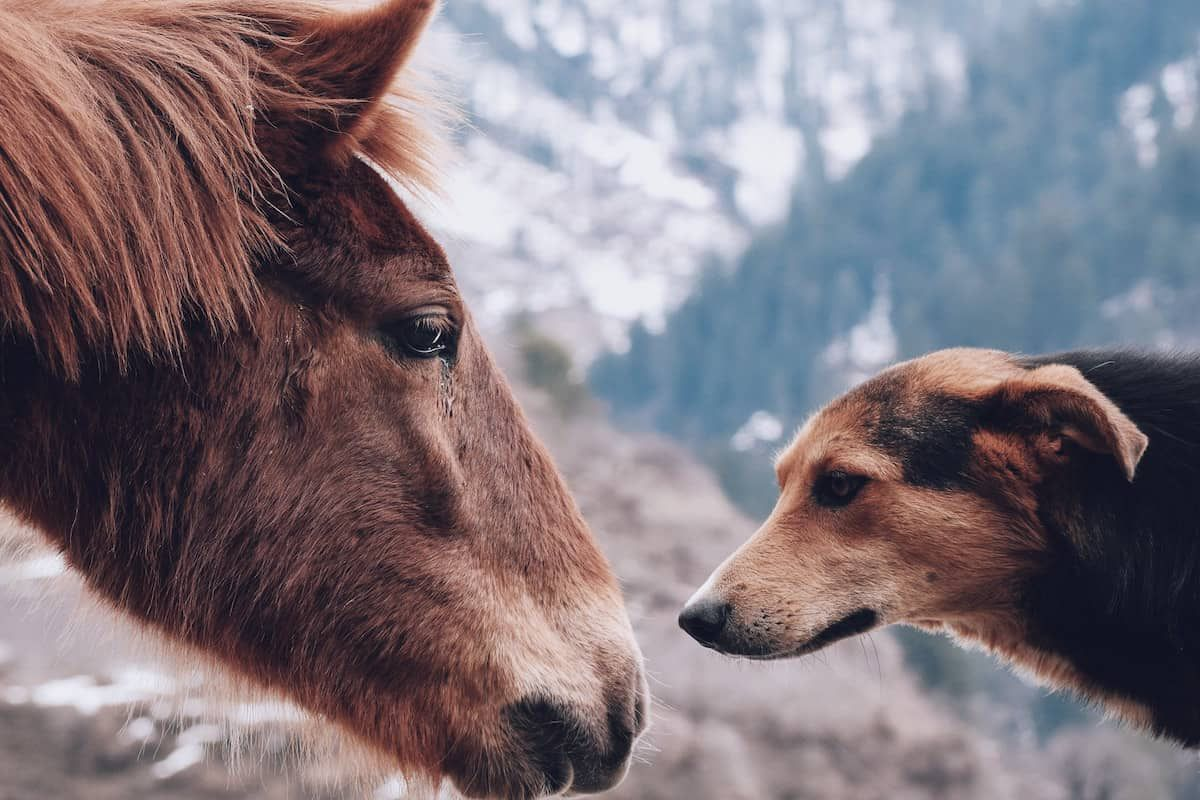Dog: (684, 307, 1200, 731)
Horse: (6, 11, 684, 792)
